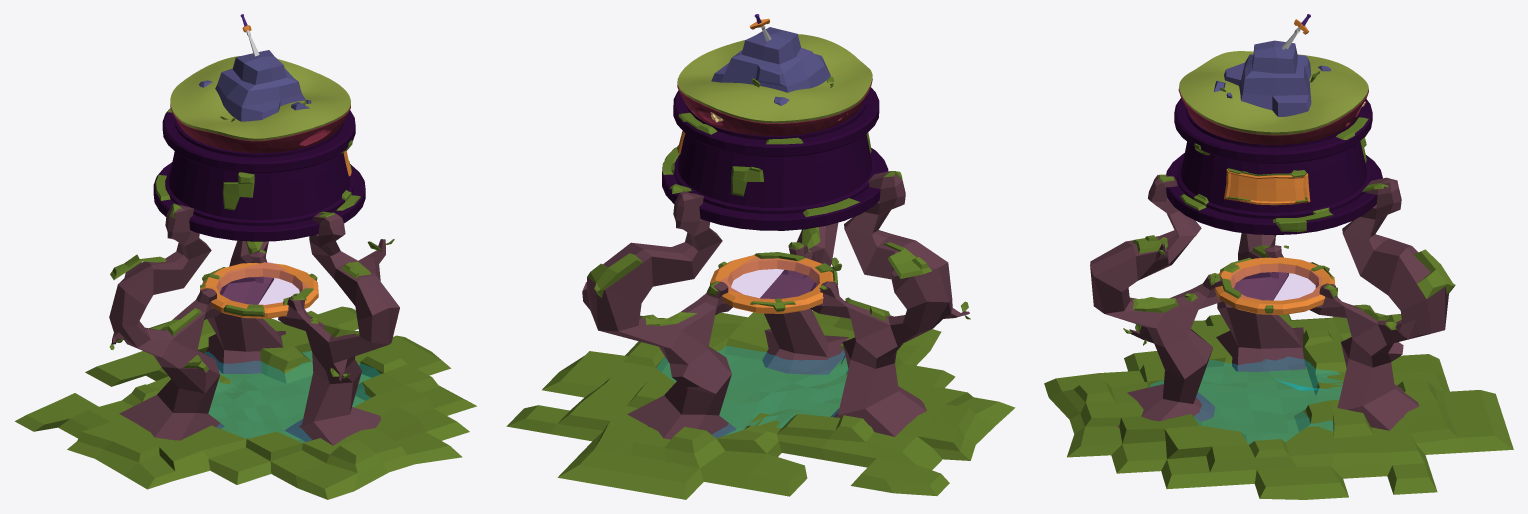
The model's file is snowclobe.glb.
3 views of the same model, side by side, from view 1: azimuth 30°, elevation 25°; view 2: azimuth 150°, elevation 25°; view 3: azimuth 270°, elevation 25° (orthographic). The views are drawn at different scales.
Parts seen in each view (by area): view 1: Grid, base, Cube.002, Cube.001, GRASS, Plane.001, Cube, Cube.026, Torus, Plane, GROUND, base.007; view 2: Grid, base, Cube, Cube.002, GRASS, Plane.001, Cube.001, Cube.026, Torus, Plane, GROUND, Cube.022 (+2 smaller); view 3: Grid, base, Cube, Cube.001, Plane.001, GRASS, Cube.002, Cube.026, Torus, Plane, GROUND, Cube.022 (+2 smaller).
Boxes of the visible parts, bbox=[...] form: Grid: bbox=[15, 306, 476, 499]; base: bbox=[153, 108, 365, 241]; Cube.002: bbox=[109, 204, 224, 440]; Cube.001: bbox=[278, 214, 399, 445]; GRASS: bbox=[170, 56, 350, 140]; Plane.001: bbox=[205, 351, 380, 442]; Cube: bbox=[205, 240, 285, 373]; Cube.026: bbox=[215, 50, 305, 121]; Torus: bbox=[200, 262, 318, 318]; Plane: bbox=[201, 262, 307, 304]; GROUND: bbox=[170, 104, 350, 152]; base.007: bbox=[222, 172, 254, 210]; Grid: bbox=[506, 310, 1015, 499]; base: bbox=[662, 87, 888, 230]; Cube: bbox=[582, 191, 736, 439]; Cube.002: bbox=[810, 171, 969, 436]; GRASS: bbox=[677, 34, 872, 123]; Plane.001: bbox=[657, 346, 847, 437]; Cube.001: bbox=[760, 222, 848, 374]; Cube.026: bbox=[711, 27, 830, 92]; Torus: bbox=[710, 255, 833, 313]; Plane: bbox=[721, 257, 819, 304]; GROUND: bbox=[677, 78, 872, 136]; Cube.022: bbox=[587, 253, 642, 297]; Grid: bbox=[1044, 304, 1513, 499]; base: bbox=[1166, 98, 1382, 235]; Cube: bbox=[1310, 177, 1448, 430]; Cube.001: bbox=[1090, 175, 1222, 428]; Plane.001: bbox=[1149, 356, 1343, 443]; GRASS: bbox=[1179, 51, 1368, 135]; Cube.002: bbox=[1216, 233, 1305, 371]; Cube.026: bbox=[1224, 40, 1311, 116]; Torus: bbox=[1215, 257, 1335, 314]; Plane: bbox=[1230, 262, 1321, 299]; GROUND: bbox=[1178, 89, 1368, 145]; Cube.022: bbox=[1413, 249, 1455, 298].
Size of the model in its own units: 11.66 by 11.04 by 11.98.
